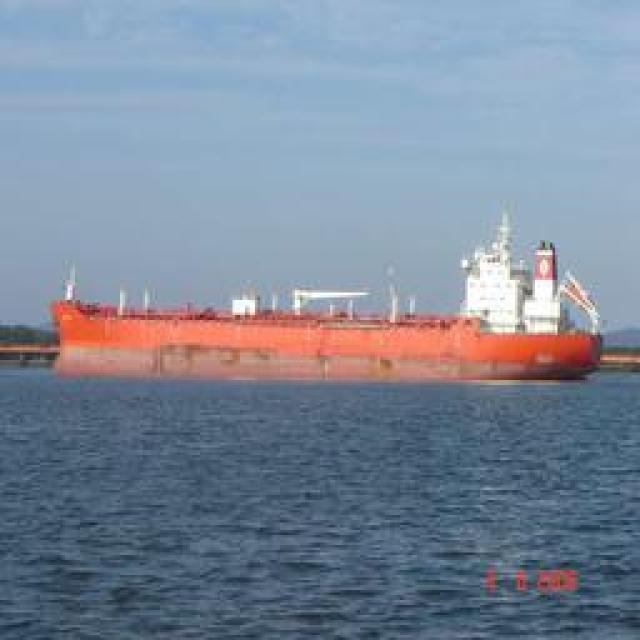CIV_Ship: (41, 276, 601, 382)
